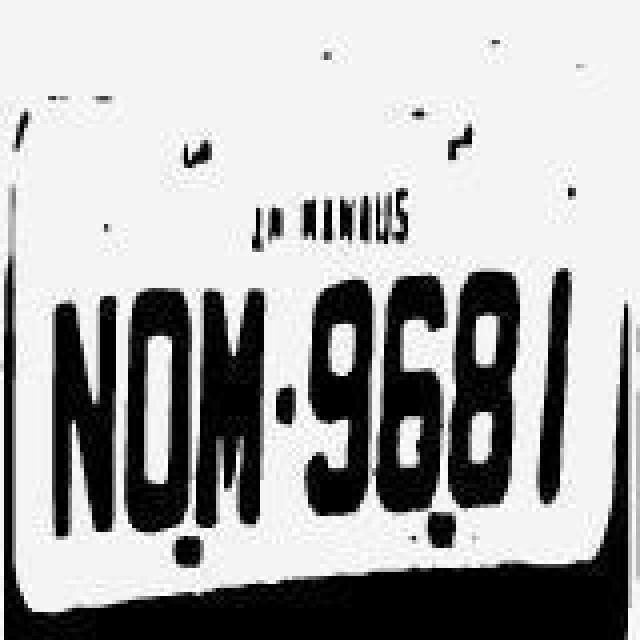1: (532, 250, 588, 510)
6: (370, 260, 446, 516)
8: (452, 254, 524, 506)
9: (300, 270, 372, 522)
M: (192, 274, 272, 534)
N: (40, 292, 120, 540)
O: (124, 280, 196, 536)
